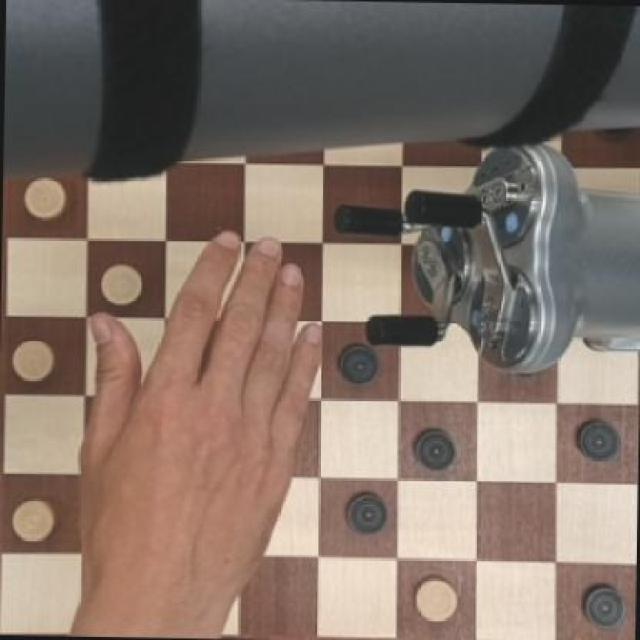black: (574, 411, 624, 464), (578, 576, 628, 629), (342, 484, 388, 540), (412, 421, 461, 472), (336, 340, 382, 386)
white: (410, 571, 462, 622), (10, 333, 59, 387), (20, 179, 73, 228), (95, 262, 149, 310), (10, 495, 55, 543)
